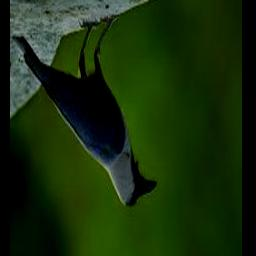Crow: (14, 18, 158, 206)
